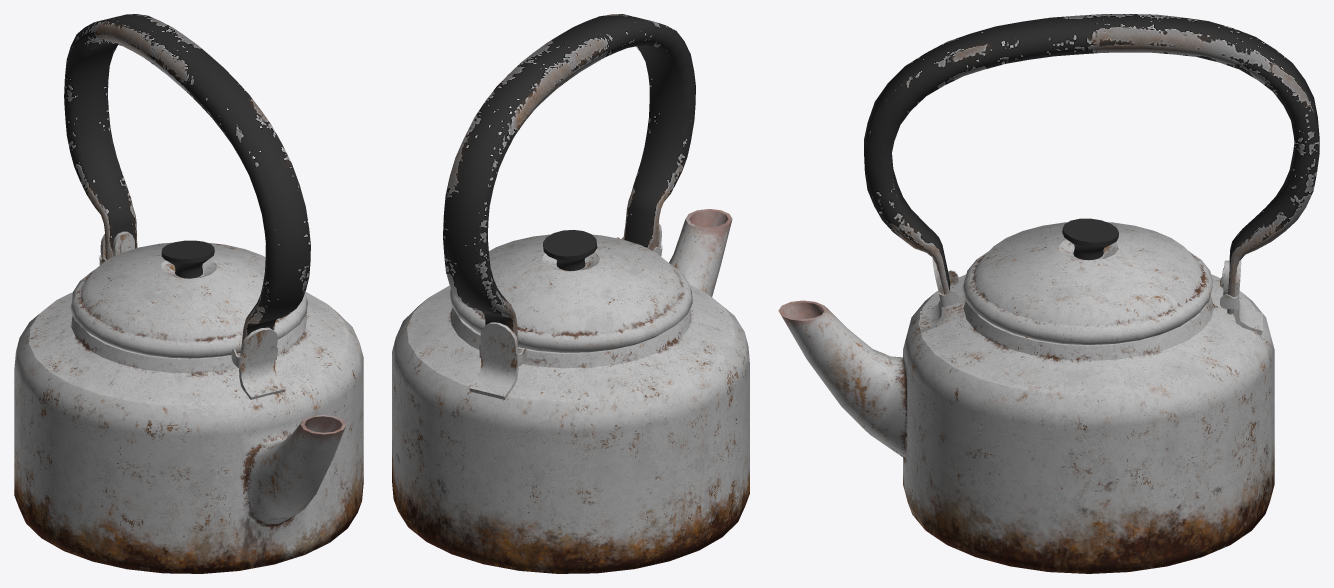
The model's file is M_Teapot_01.FBX.
3 views of the same model, side by side, from view 1: azimuth 30°, elevation 25°; view 2: azimuth 150°, elevation 25°; view 3: azimuth 270°, elevation 25° (orthographic). The views are drawn at different scales.
Parts seen in each view (by area): view 1: M_Teapot_01; view 2: M_Teapot_01; view 3: M_Teapot_01.
Boxes of the visible parts, <box> form: M_Teapot_01: <box>14,14,363,573</box>; M_Teapot_01: <box>392,14,749,573</box>; M_Teapot_01: <box>778,14,1319,573</box>.
Bounding box in the file's own units: 20.91 × 30.47 × 29.78.
